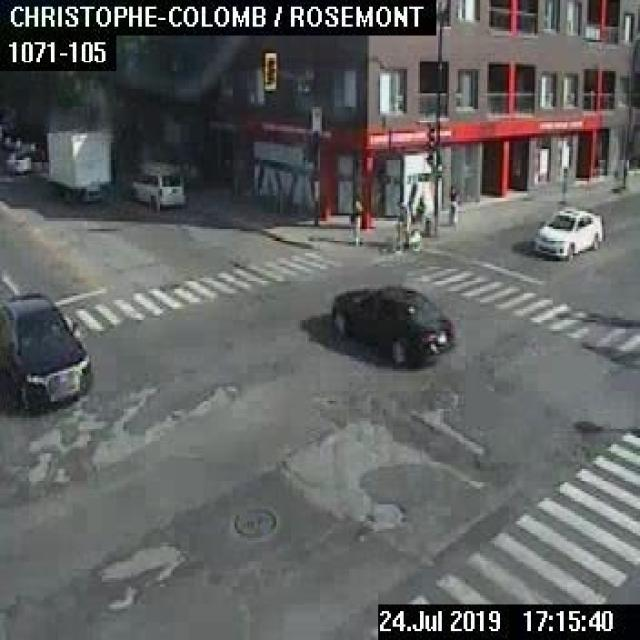cyclist: (392, 200, 420, 250)
pedestrian: (349, 190, 362, 246), (448, 184, 458, 224)
vehicle: (0, 291, 89, 411), (330, 282, 453, 364), (46, 131, 111, 200), (534, 207, 602, 259), (129, 160, 184, 210), (5, 151, 30, 173)
